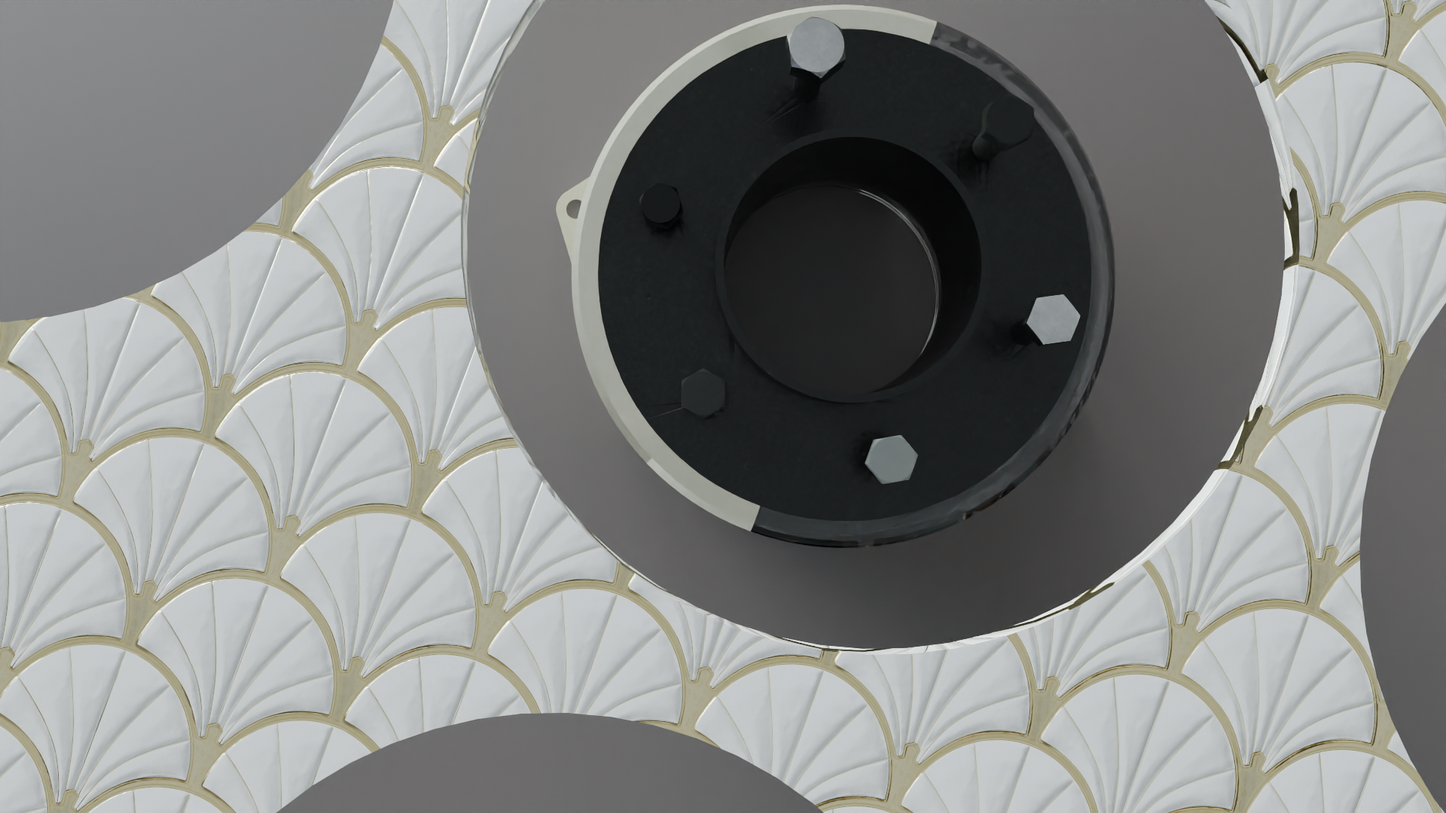bolt: (787, 17, 846, 78), (1027, 294, 1081, 345), (986, 93, 1034, 147), (867, 435, 918, 484), (682, 368, 725, 419), (639, 183, 683, 226)
